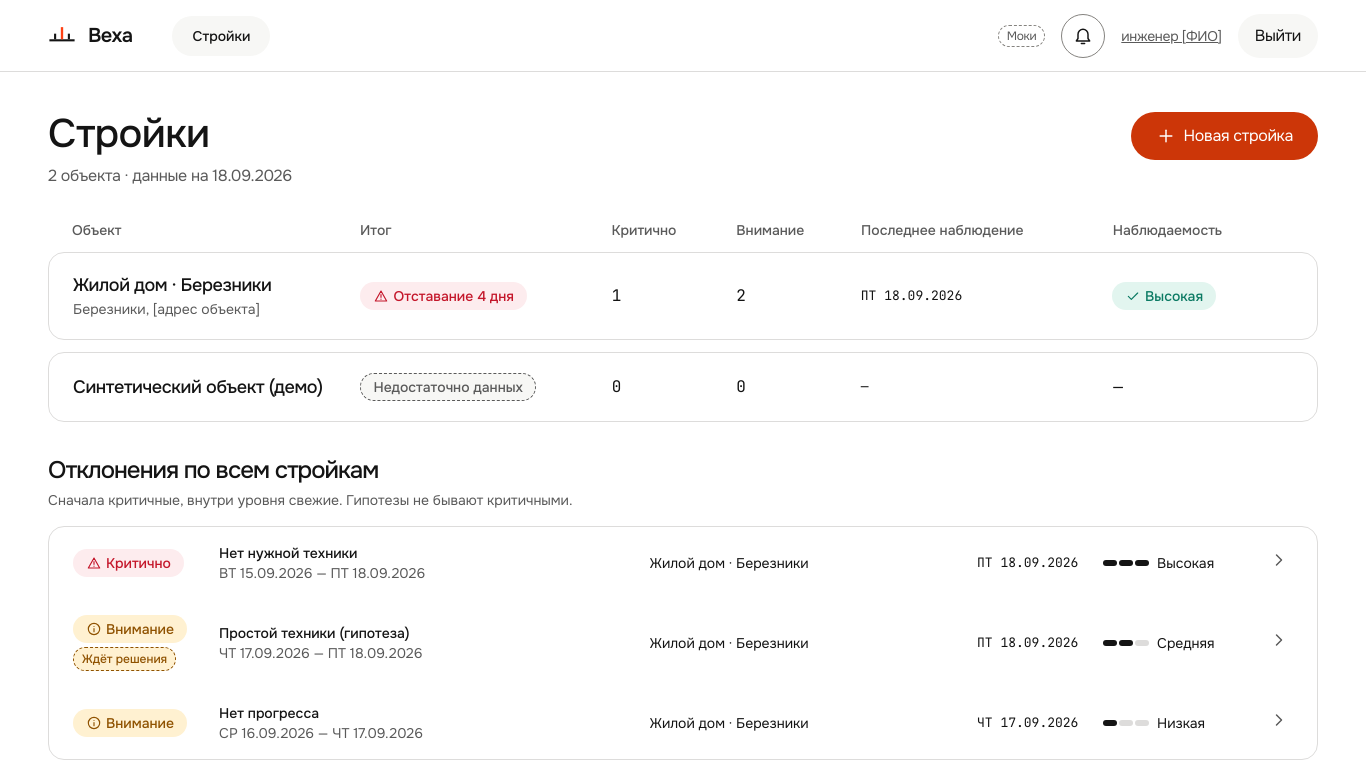
Test: LoginPage › logout button clears the token and returns to the landing page
Expected: the heading "Стройки" is shown, [48,108,210,159]
Click logout button
Click the button "Выйти".
click(1278, 36)  # box [1238,14,1318,58]
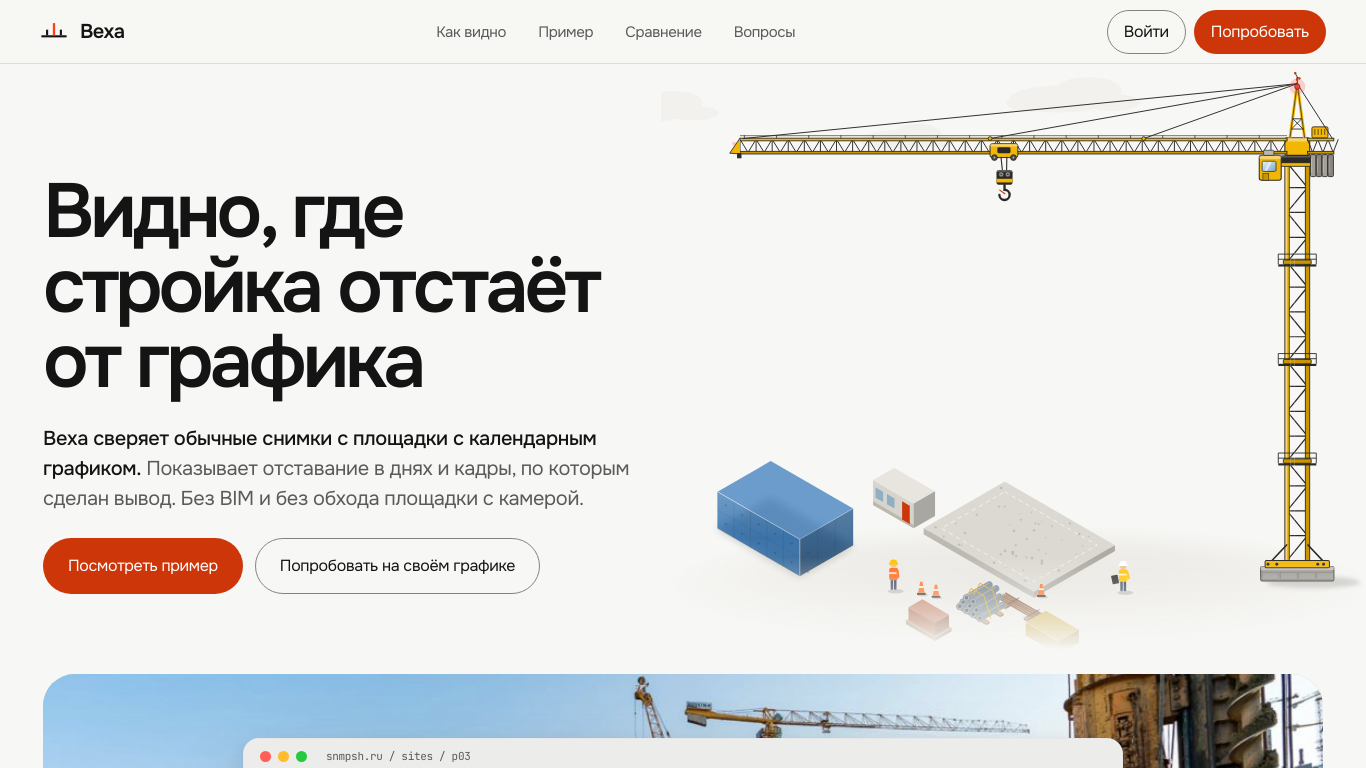
Expected: the heading "Видно, где стройка отстаёт от графика" is shown, [43,175,600,400]
